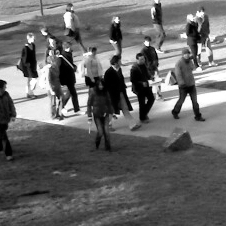person: (105, 54, 141, 131), (172, 47, 206, 122), (87, 78, 113, 152), (129, 52, 155, 123), (57, 42, 82, 114), (139, 36, 164, 101), (194, 6, 218, 66), (43, 54, 64, 120), (63, 3, 88, 52), (1, 80, 16, 161), (21, 32, 38, 99), (185, 13, 203, 72), (82, 46, 104, 89), (150, 1, 166, 53), (109, 15, 124, 66), (45, 36, 62, 65), (41, 26, 63, 42)
